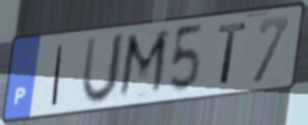5: (166, 20, 209, 97)
7: (254, 13, 292, 86)
I: (49, 43, 66, 108)
M: (115, 27, 173, 103)
T: (217, 20, 250, 88)
U: (79, 30, 129, 107)
